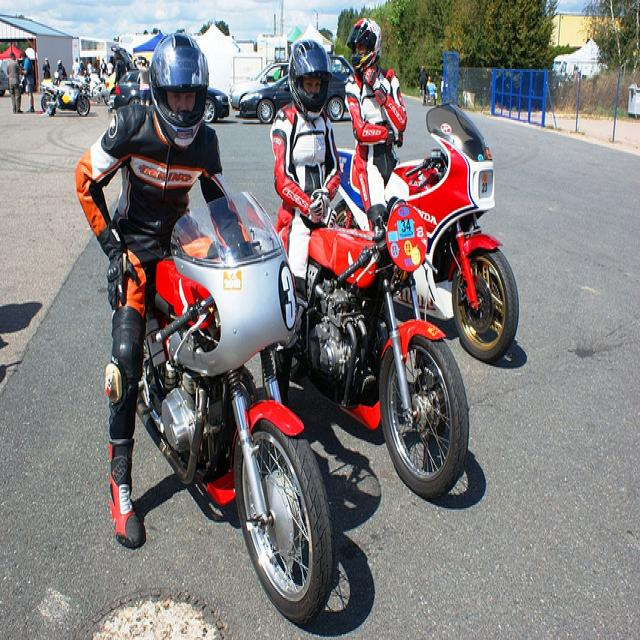motor: (136, 187, 334, 532), (296, 196, 469, 499), (379, 101, 517, 367), (40, 71, 91, 118)
